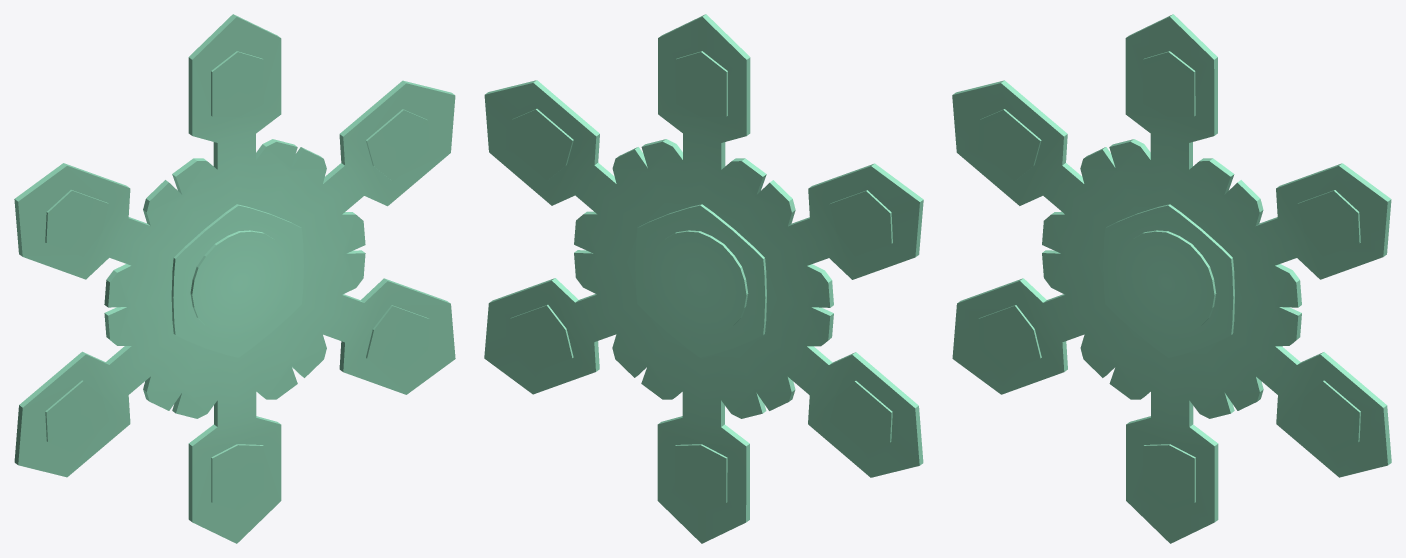
Rendered from Snowflake.007.glb.
3 views of the same model, side by side, from view 1: azimuth 30°, elevation 25°; view 2: azimuth 150°, elevation 25°; view 3: azimuth 330°, elevation 25° (orthographic).
Visible parts, largest first — view 1: Snowflake.007; view 2: Snowflake.007; view 3: Snowflake.007.
Boxes of the visible parts, x1,y1,x2,y2 form: Snowflake.007: [14, 14, 455, 543]; Snowflake.007: [484, 14, 923, 543]; Snowflake.007: [952, 14, 1391, 543].
Bounding box in the file's own units: 1183 × 1365 × 52.52.
